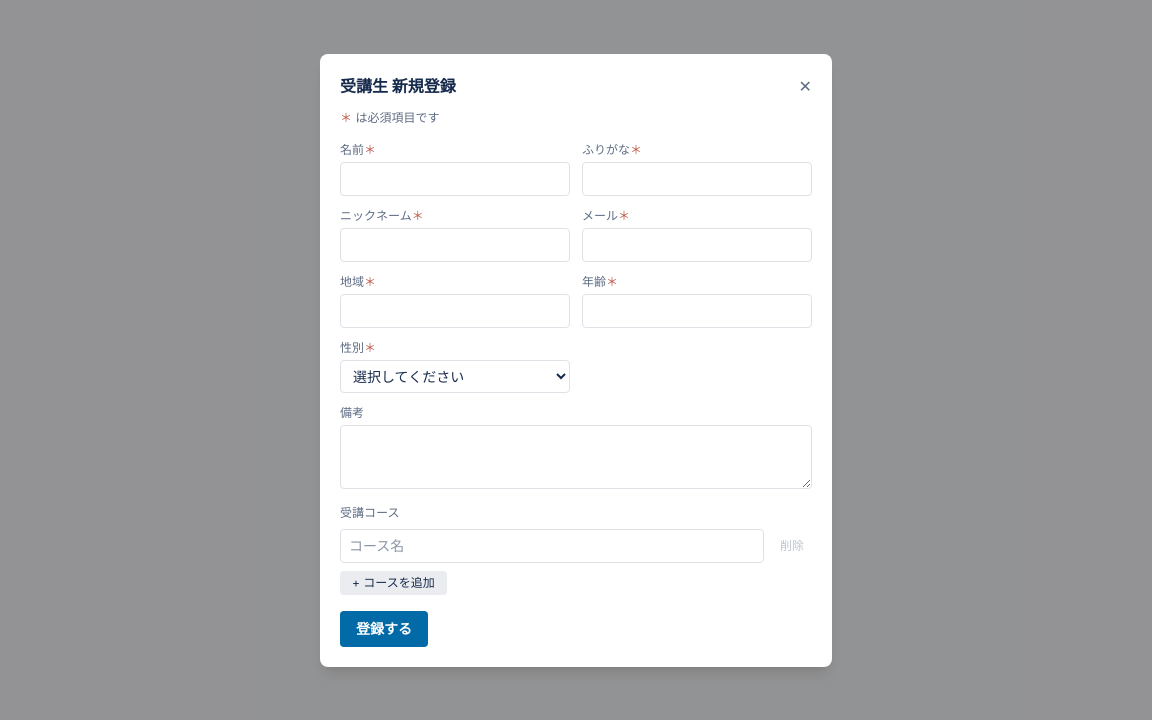
RegisterStudentModal › shows a validation error when required fields are missing
Click the button "登録する": (384, 628) [340,610,428,646]
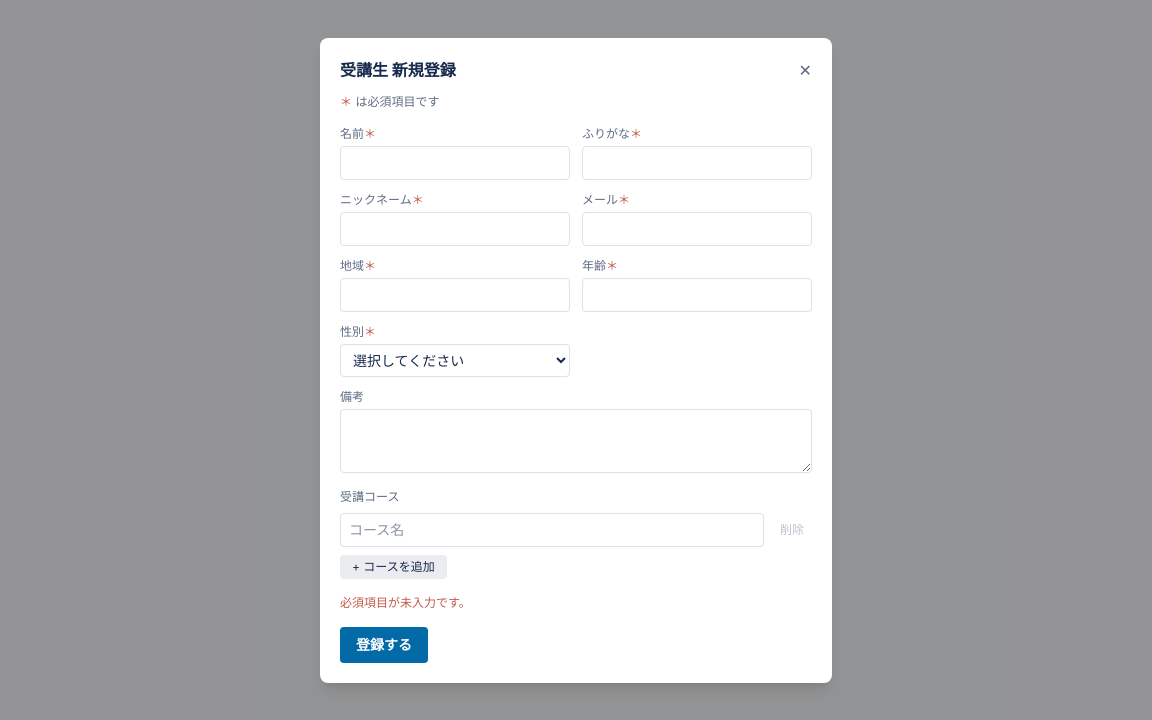
Result: the text "必須項目が未入力です。" is shown at [340,594,471,610]
